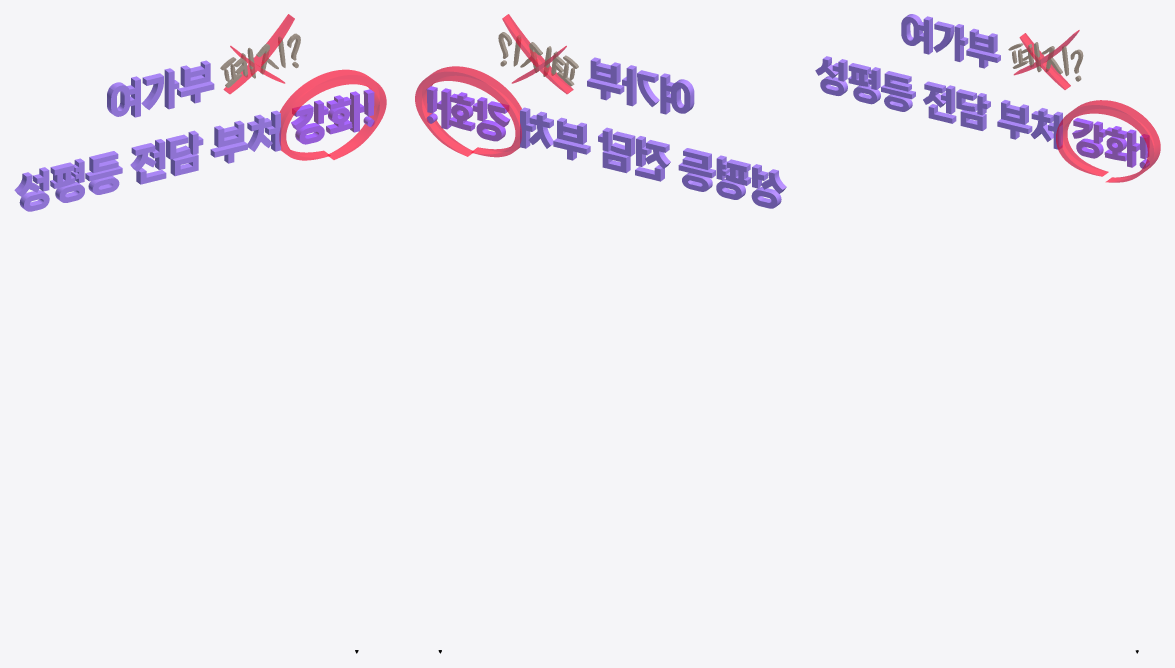
The model's file is yeo.glb.
3 renders of one model, left to right at view 1: azimuth 30°, elevation 25°; view 2: azimuth 150°, elevation 25°; view 3: azimuth 330°, elevation 25°, orthographic. The views are drawn at different scales.
Parts seen in each view (by area): view 1: Body44, Body42, Body23, Body25, Body33, Body19, Body22; view 2: Body44, Body42, Body23, Body25, Body33, Body19, Body22; view 3: Body44, Body23, Body42, Body25, Body33, Body19.
Boxes of the visible parts, x1,y1,x2,y2 form: Body44: [279, 69, 386, 160]; Body42: [223, 14, 294, 94]; Body23: [107, 76, 140, 117]; Body25: [180, 60, 210, 87]; Body33: [214, 120, 244, 147]; Body19: [247, 114, 272, 151]; Body22: [326, 106, 352, 134]; Body44: [415, 66, 521, 157]; Body42: [502, 14, 573, 94]; Body23: [660, 73, 694, 114]; Body25: [590, 57, 620, 84]; Body33: [557, 117, 586, 144]; Body19: [528, 111, 553, 148]; Body22: [448, 103, 475, 131]; Body44: [1056, 100, 1160, 182]; Body23: [901, 14, 932, 54]; Body42: [1013, 30, 1079, 89]; Body25: [969, 28, 997, 53]; Body33: [1001, 100, 1028, 124]; Body19: [1030, 108, 1053, 141].
Size of the model in its own units: 1.17 by 1.99 by 0.0485.
